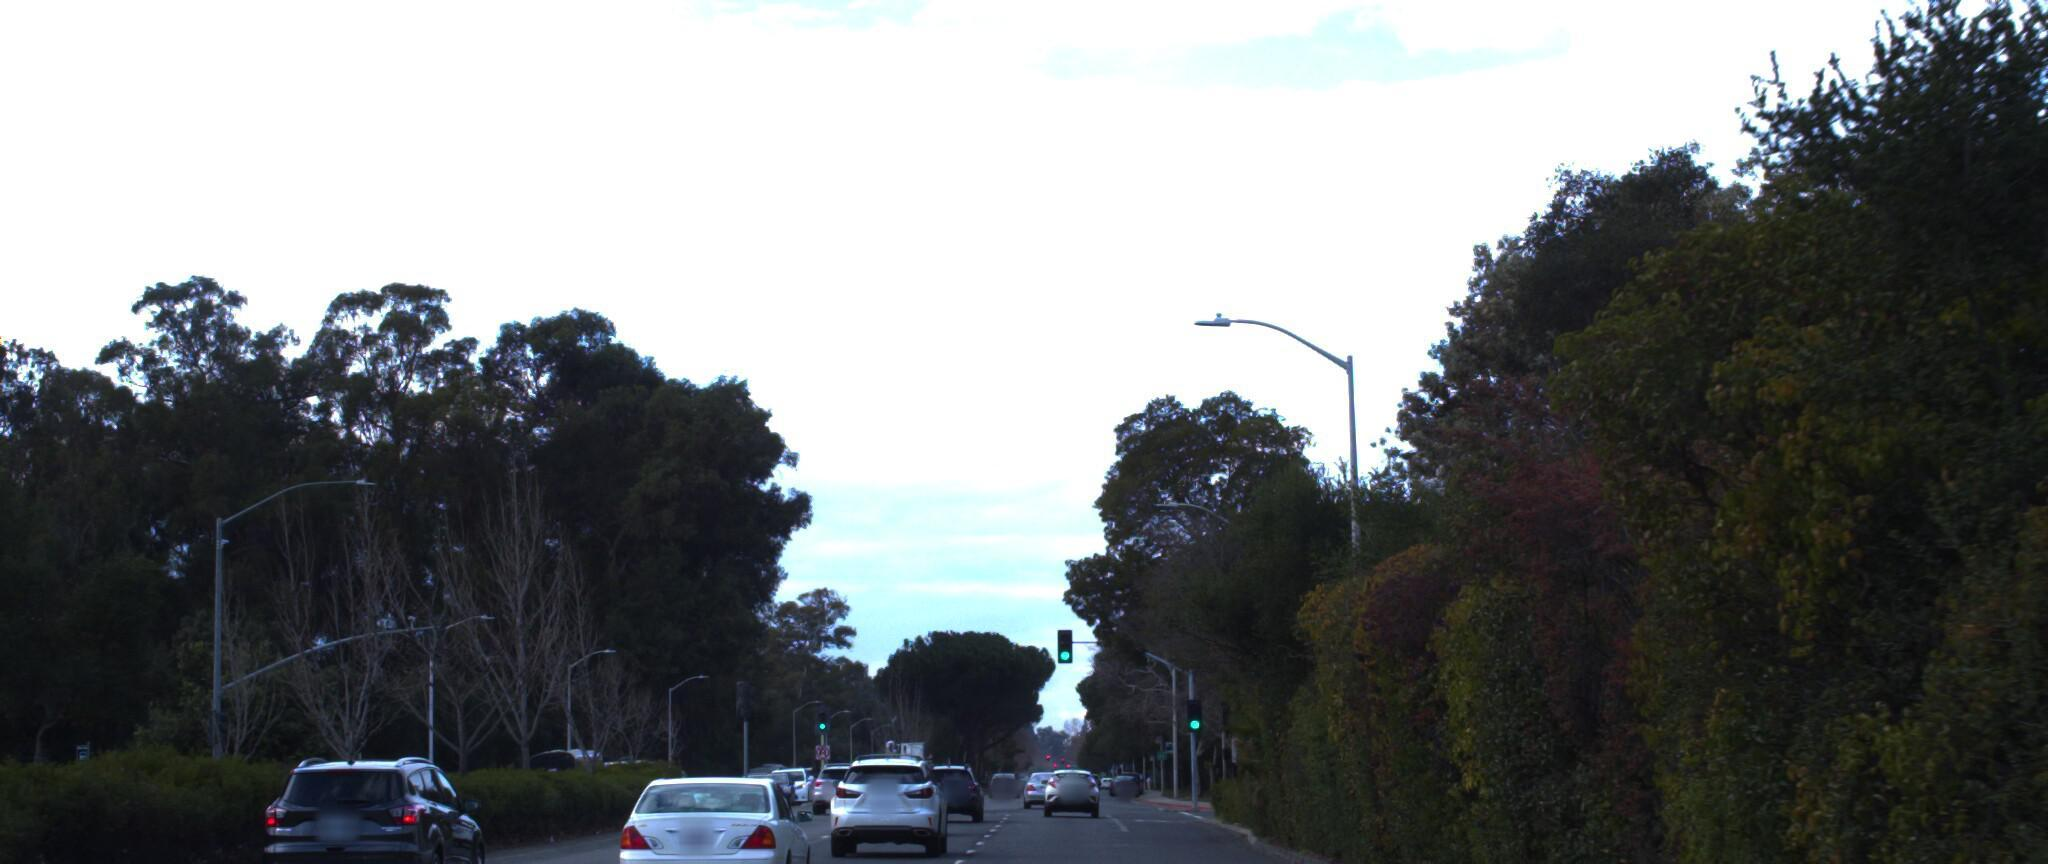car: (251, 733, 499, 864), (610, 730, 820, 864), (823, 745, 946, 850)
